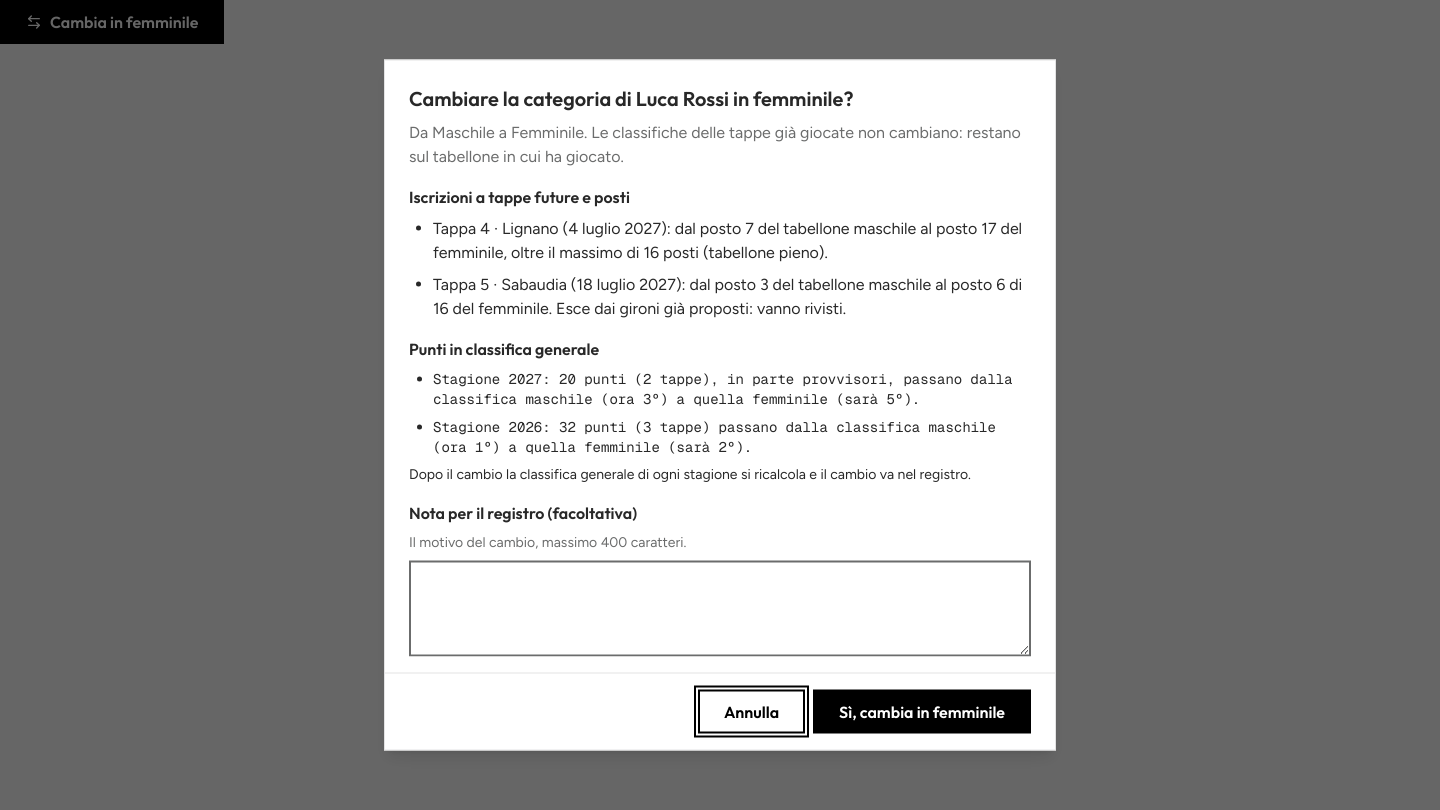
CambioCategoriaDialog › conferma: invia categoria ed effetti attesi, poi il focus va all'esito
This screenshot has width=1440, height=810.
Step 1. Type "Richiesta della giocatrice" into the text box → (720, 608), box [409, 560, 1031, 656]
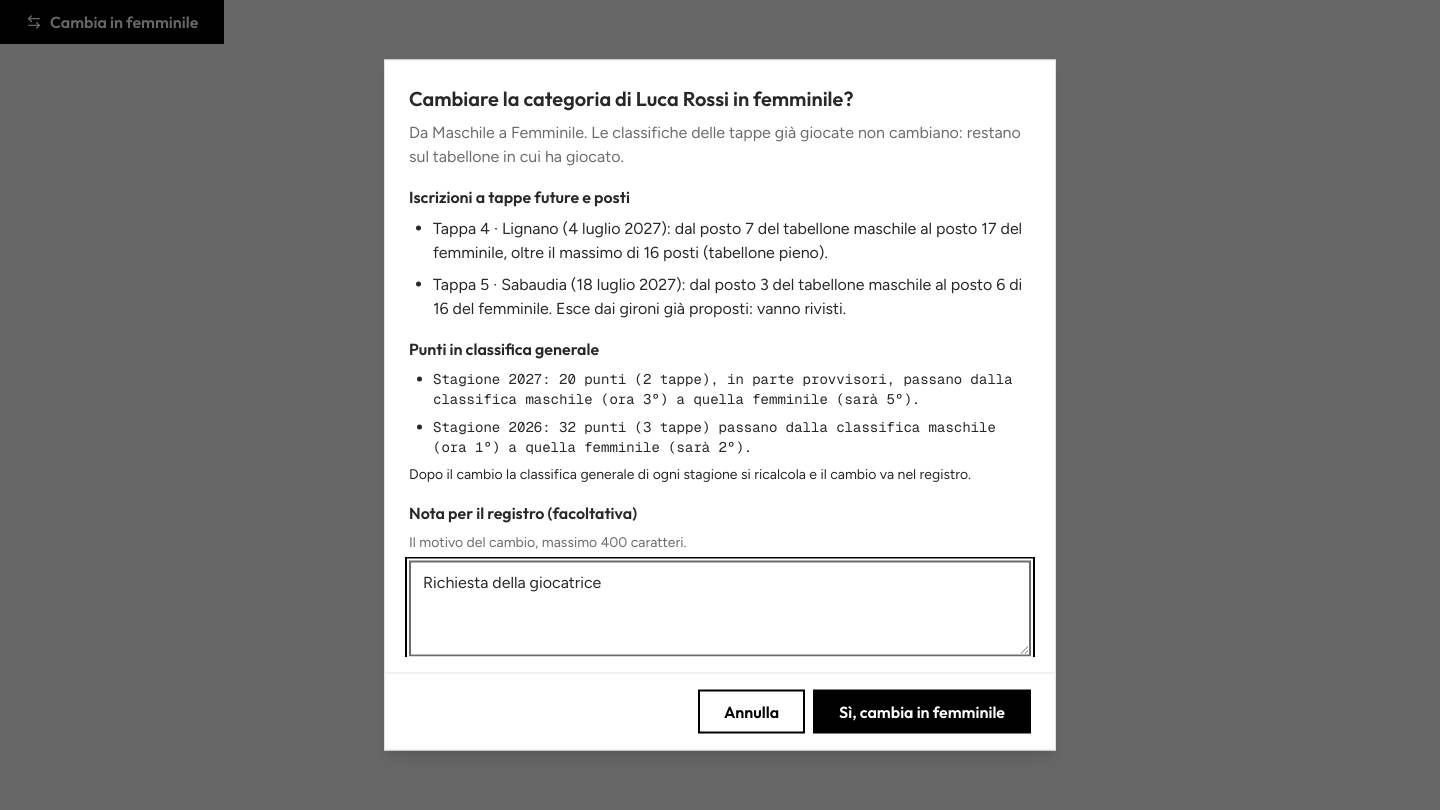
Step 2. Click the button "Sì, cambia in femminile" → (922, 712), box [813, 690, 1031, 734]
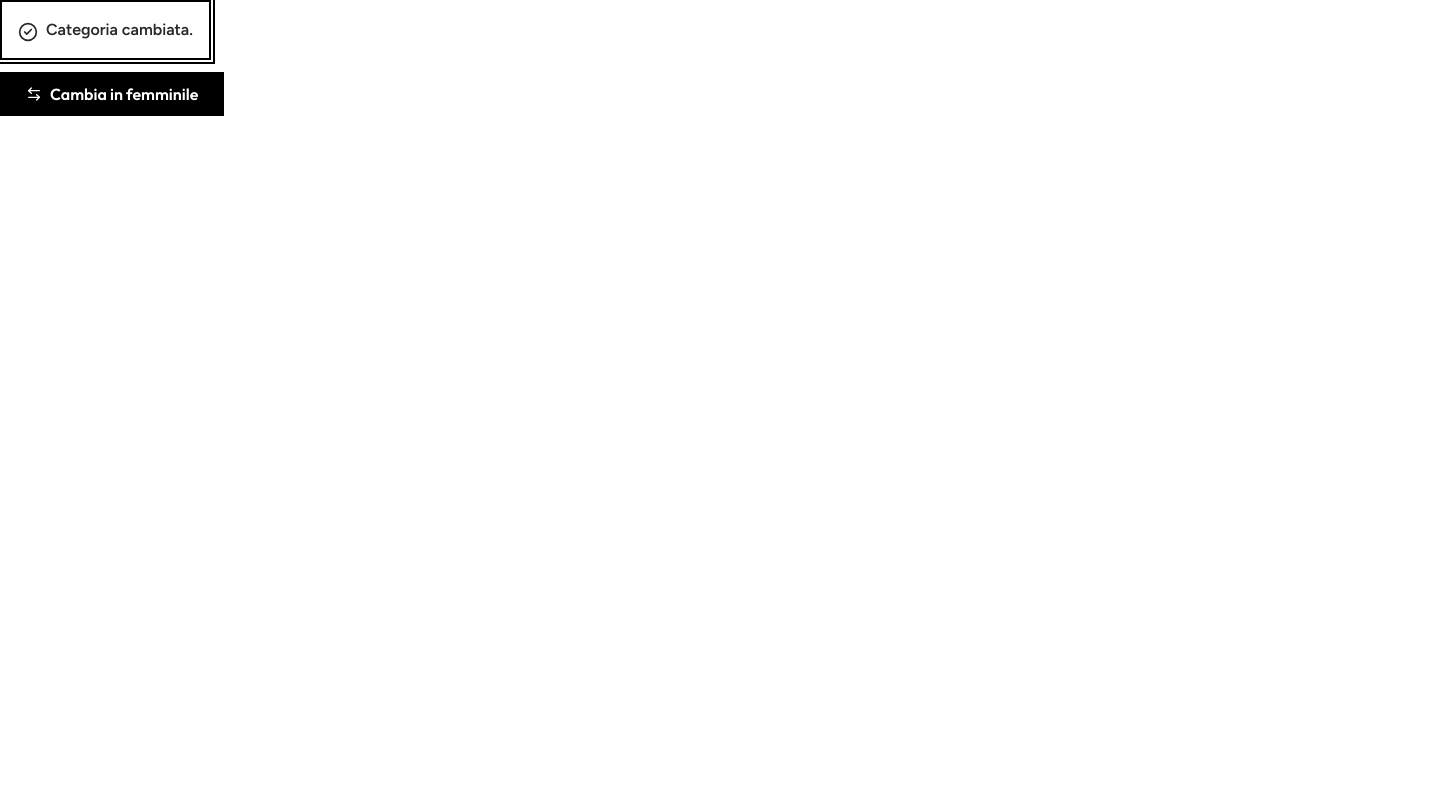
Result: the message with test id "esito-cambio-categoria" reads "Categoria cambiata." at [46, 20, 193, 39]
